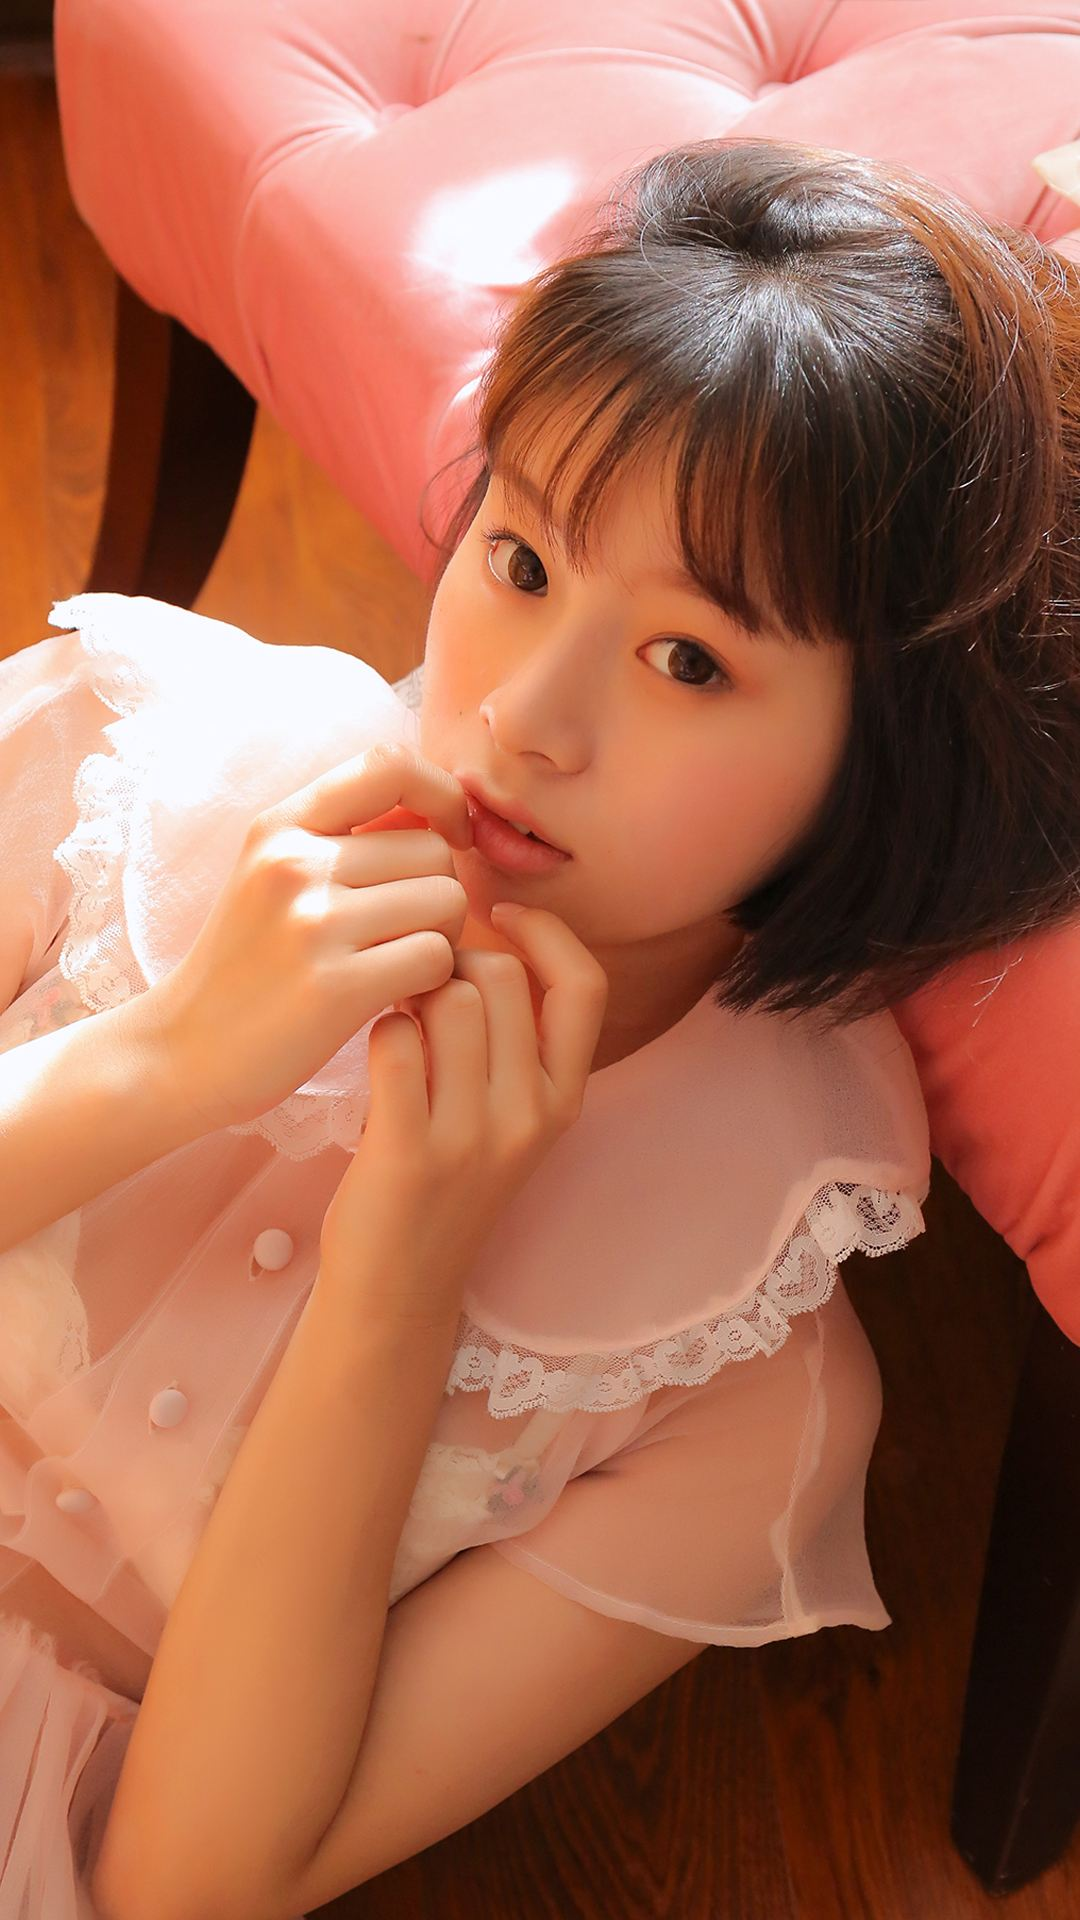person: (136, 227, 1080, 1651)
